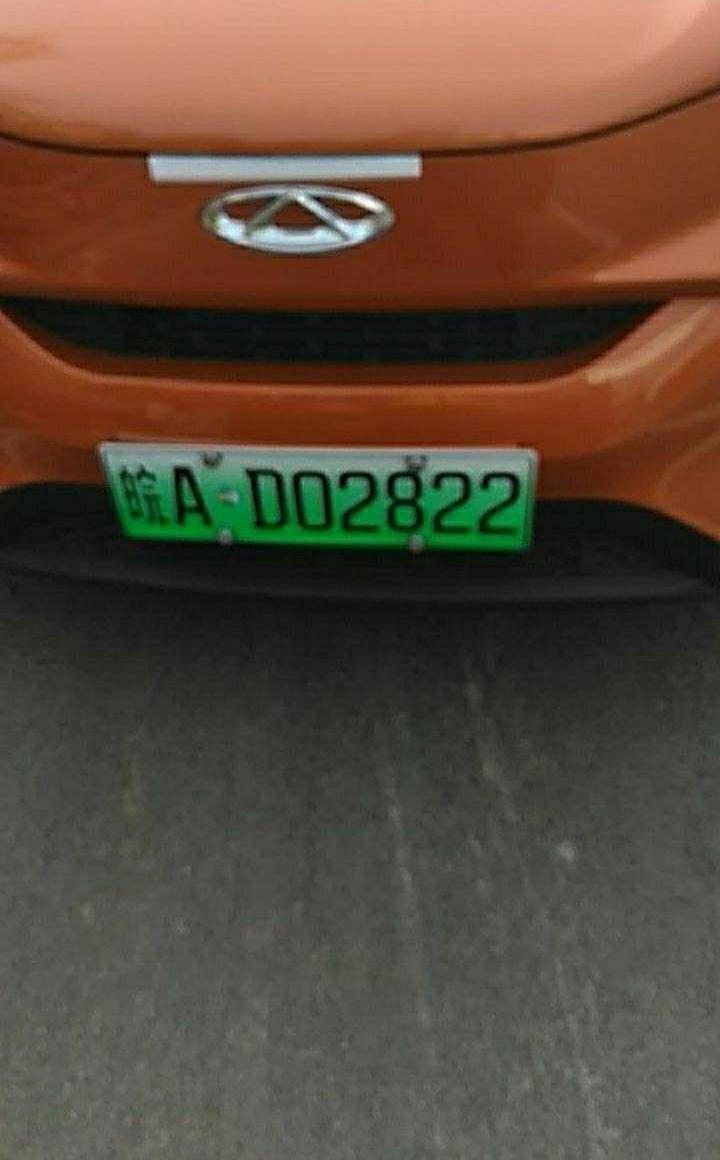car_id: (102, 449, 531, 548)
